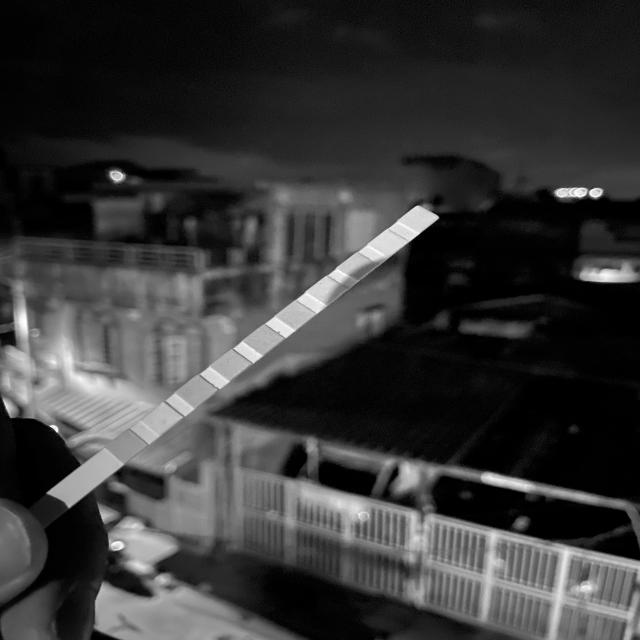Bilirubin: (151, 412, 172, 426)
Blood: (253, 332, 274, 348)
Glucose: (116, 439, 137, 455)
Ketone: (186, 383, 206, 399)
Leukocytes: (406, 214, 428, 226)
Nitrite: (378, 235, 396, 250)
Protein: (315, 283, 338, 298)
SpGravity: (220, 357, 241, 373)
Urobilinogen: (346, 259, 366, 275)
background: (0, 0, 640, 640)
pH: (285, 307, 305, 323)
strip: (47, 205, 439, 509)
